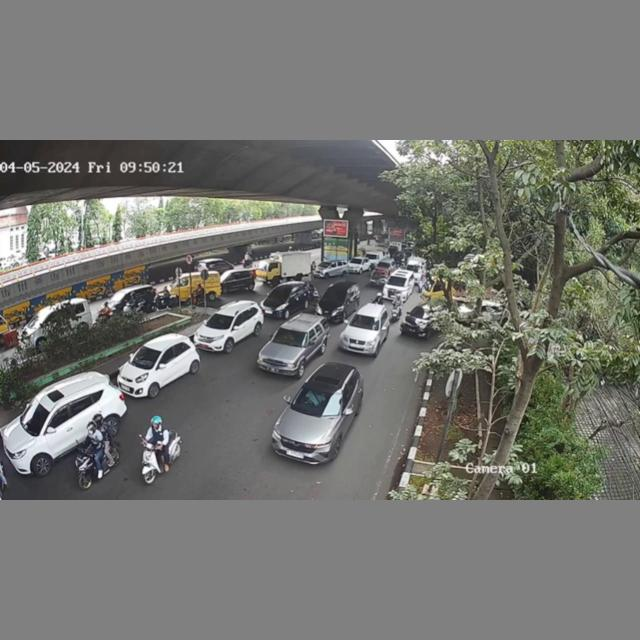windshield: (288, 386, 343, 418), (129, 344, 162, 370), (348, 311, 382, 331), (270, 331, 309, 347), (202, 314, 233, 331)
